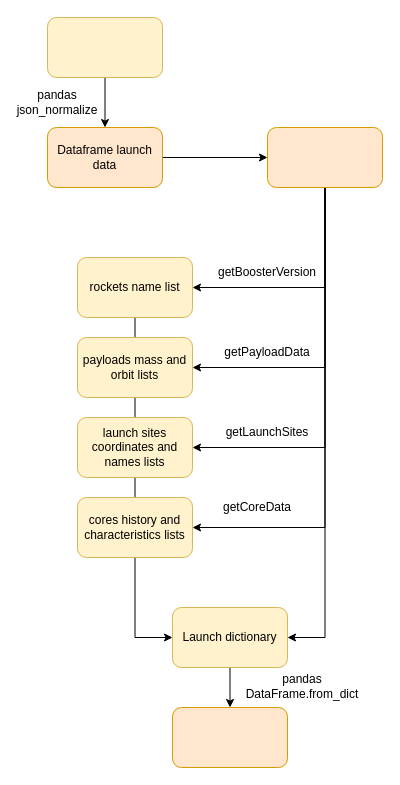
This 400x785 diagram has some shape labels left out. Here are the shapes that lost their labels. From the top down, the centre of each, then its label:
point 104,47: JSON launch data
point 324,157: Launch data subset
point 230,737: Data dataframe
